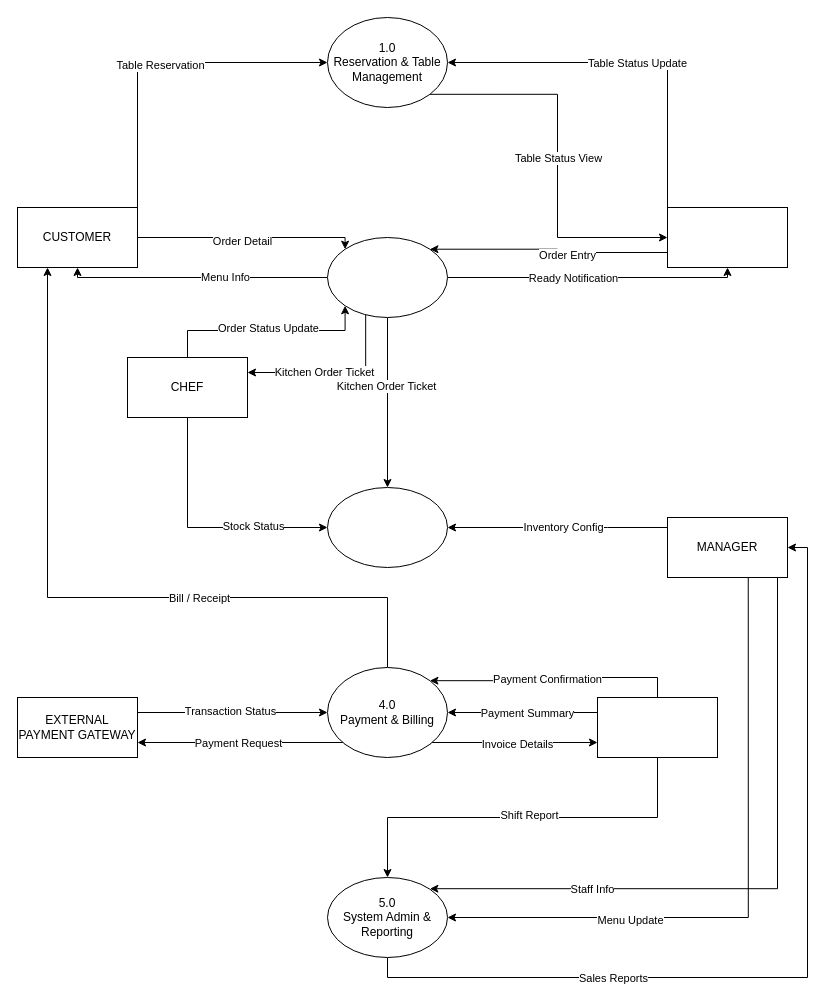
Image size: 833x1003. Some labels were removed from this diagram. The centre of each missing label's shape, as x and y in pixels:
2.0 Order Management: the point at 387,277
3.0 Kitchen & Inventory Management: the point at 387,527
CASHIER: the point at 657,727
WAITER: the point at 727,237
